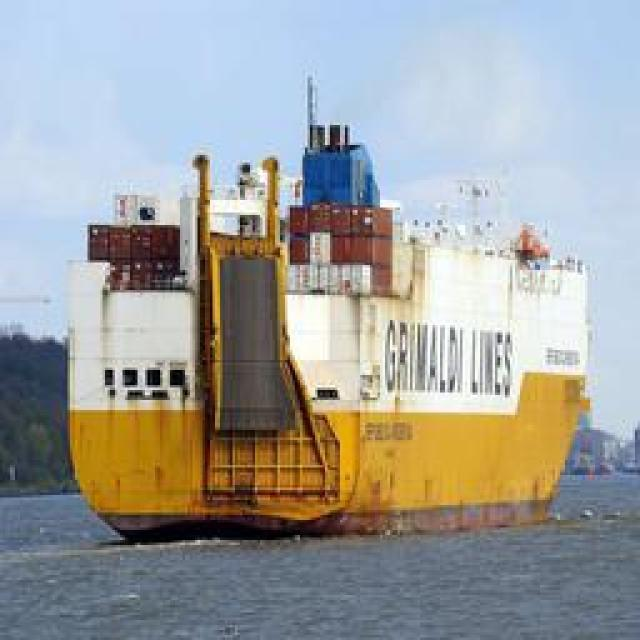CIV_Ship: (68, 74, 600, 524)
